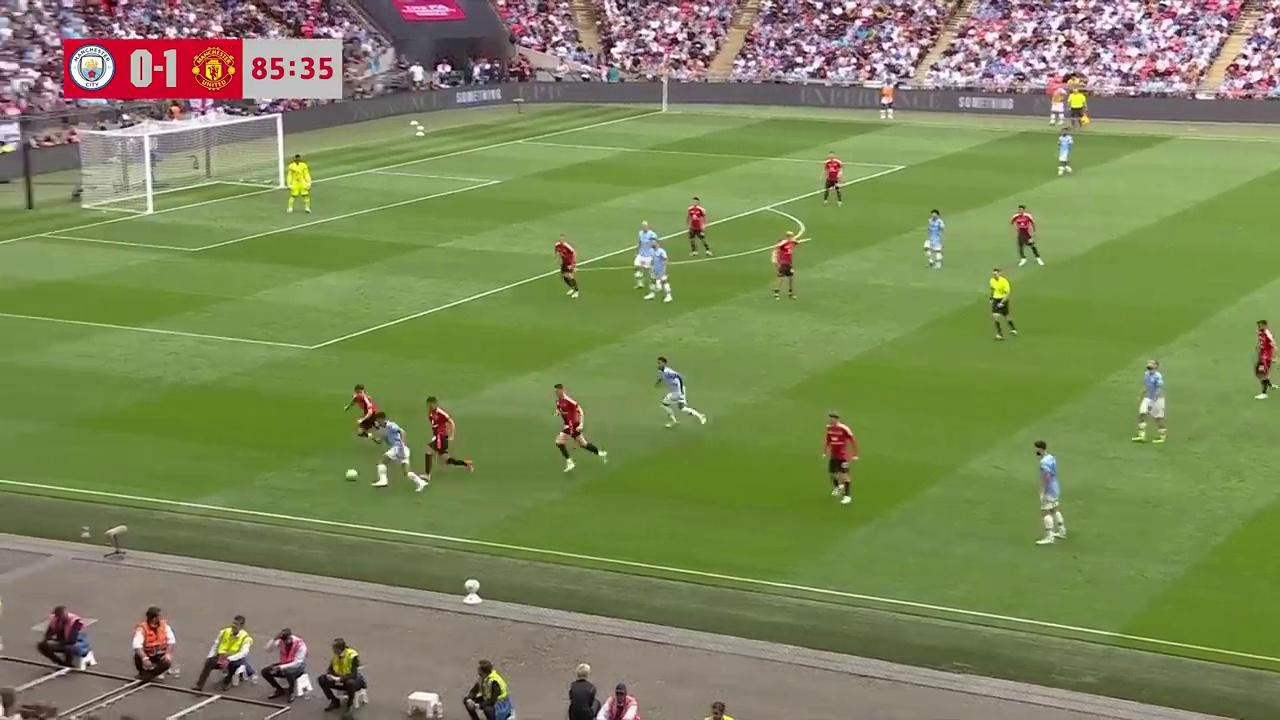ball: (343, 465, 359, 480)
player: (553, 385, 608, 472), (370, 419, 428, 492), (423, 396, 475, 475), (654, 356, 707, 427), (1033, 439, 1067, 543), (822, 412, 858, 505), (1132, 359, 1167, 443), (770, 230, 806, 300), (343, 383, 384, 443), (638, 237, 673, 302), (1009, 204, 1044, 267), (637, 231, 670, 292), (1253, 319, 1277, 399), (635, 220, 664, 280), (553, 233, 579, 298), (286, 154, 313, 214), (685, 196, 712, 256), (820, 152, 844, 206), (924, 208, 945, 269), (1056, 126, 1074, 175)
referee: (987, 266, 1017, 340), (1070, 88, 1089, 132)
